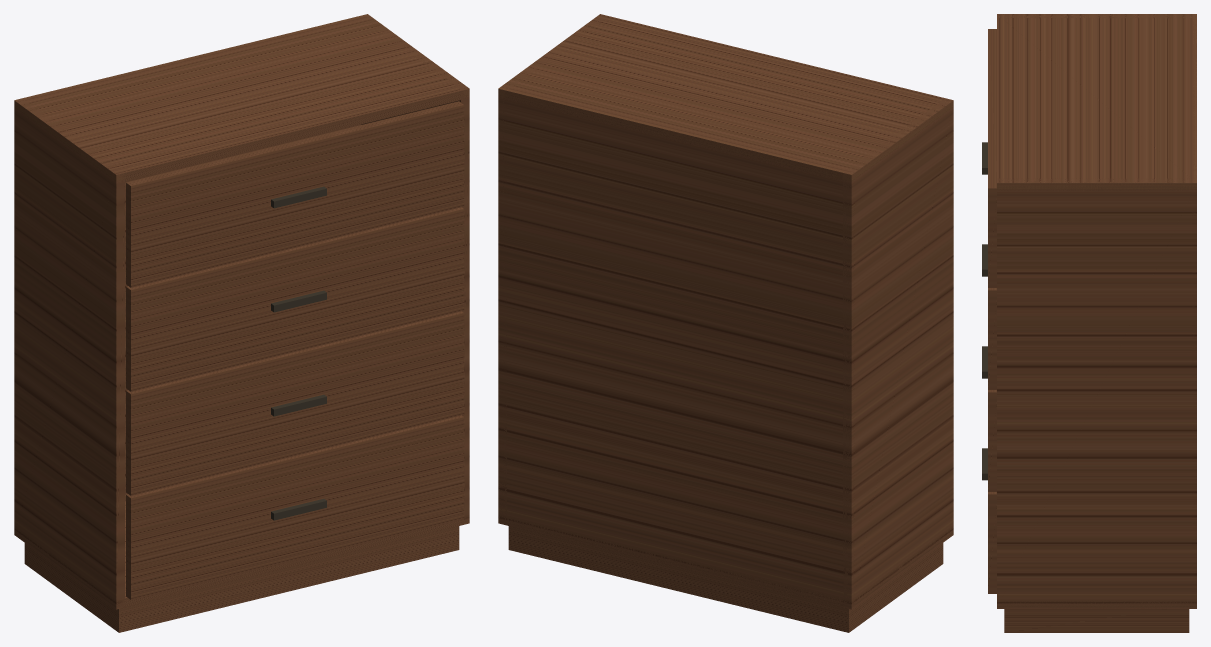
3 views of the same model, side by side, from view 1: azimuth 30°, elevation 25°; view 2: azimuth 150°, elevation 25°; view 3: azimuth 270°, elevation 25° (orthographic). The views are drawn at different scales.
Parts seen in each view (by area): view 1: CabinetRoot; view 2: CabinetRoot; view 3: CabinetRoot.
Boxes of the visible parts, left/top/right/bottom form: CabinetRoot: left=14, top=14, right=469, bottom=632; CabinetRoot: left=498, top=14, right=953, bottom=632; CabinetRoot: left=982, top=14, right=1196, bottom=632.
Size of the model in its own units: 0.8 by 1 by 0.4295.
2 materials, 2 textured.
